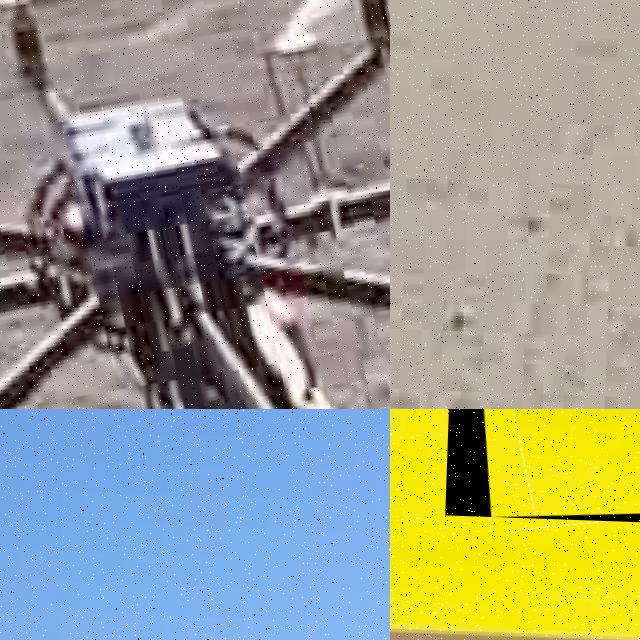drone: (0, 0, 390, 409), (445, 409, 640, 531)
